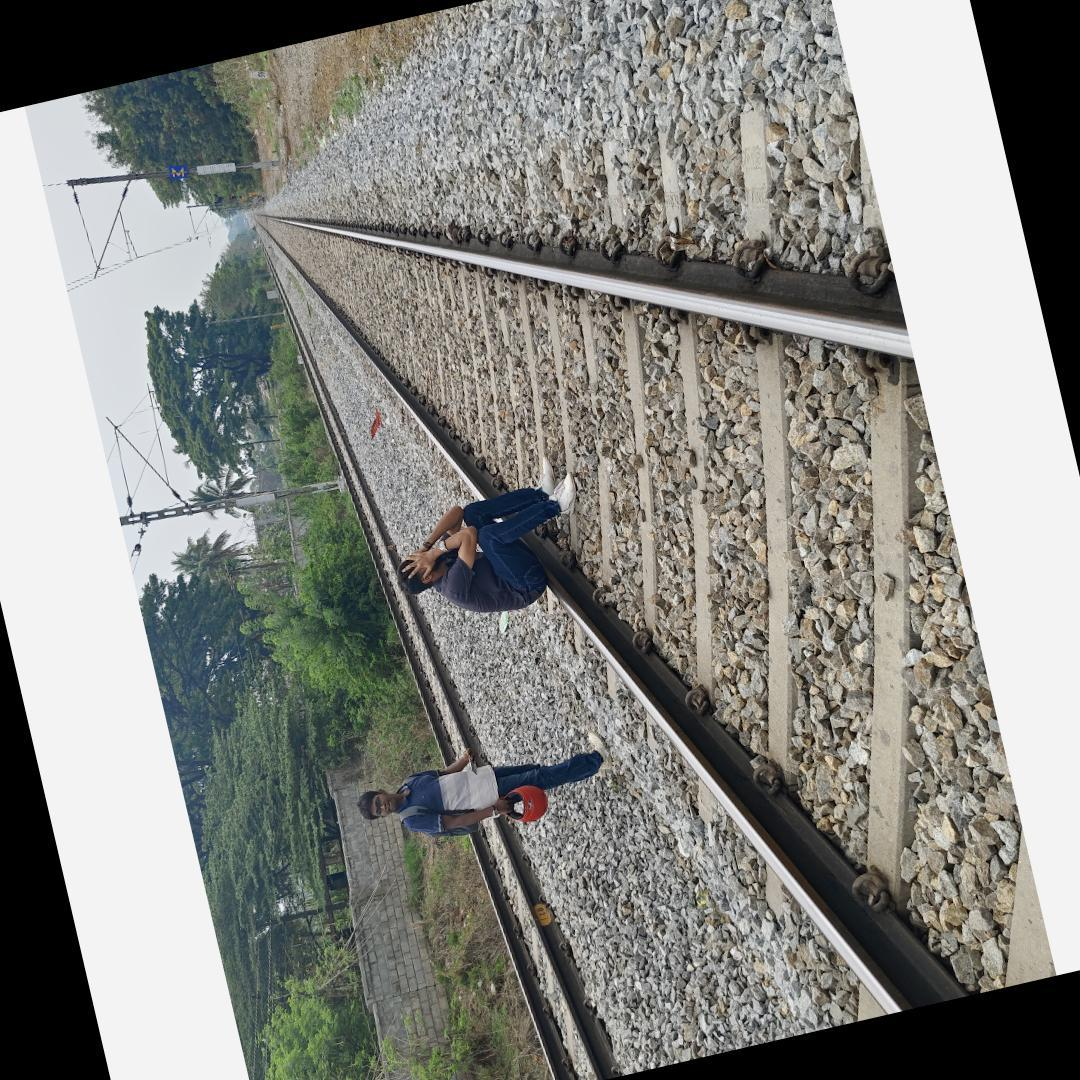sitting: (393, 449, 580, 616)
standing: (355, 727, 614, 835)
track: (248, 207, 1056, 1018)
